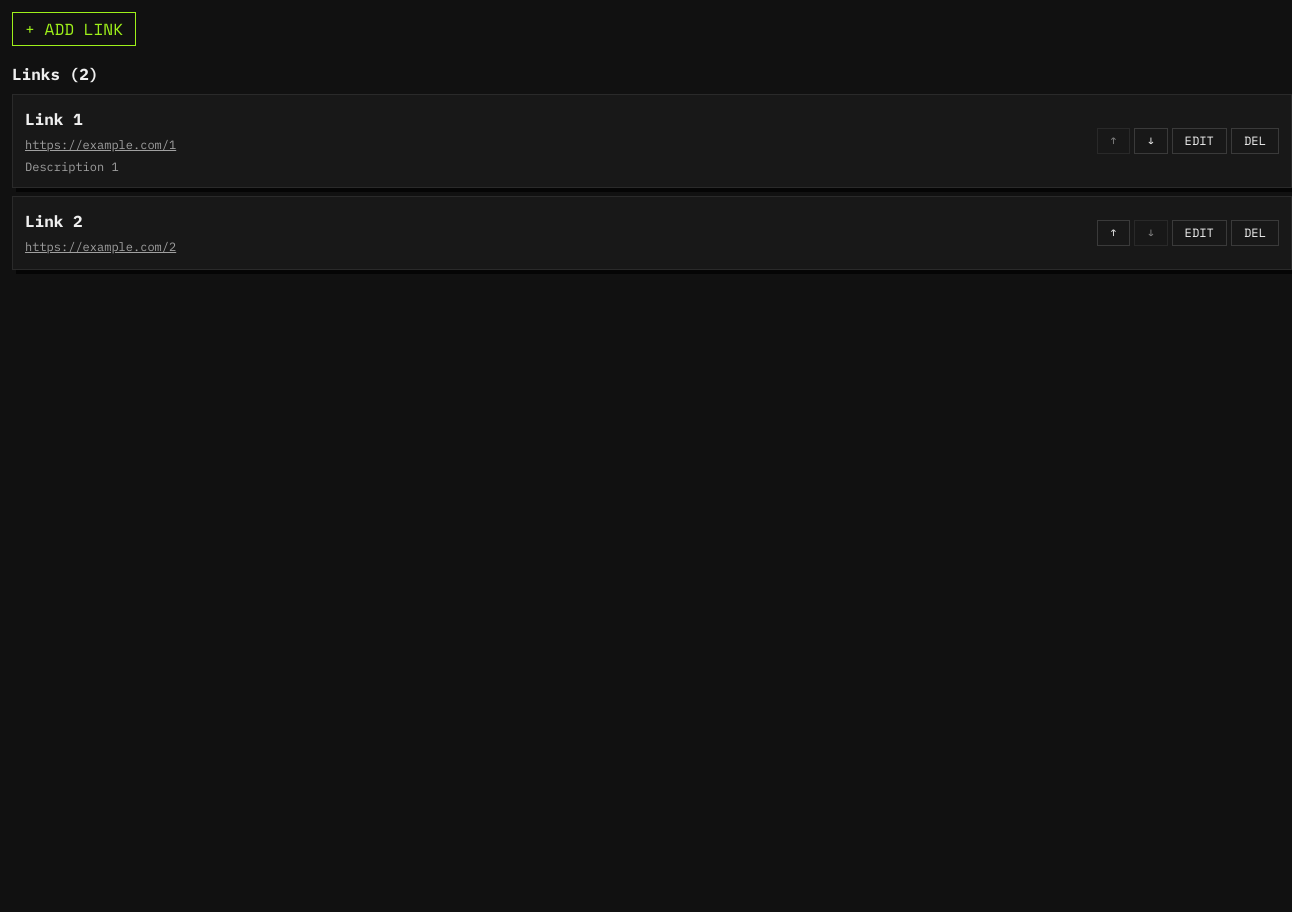
Test: LinkManager › updates link successfully
Expected: the text "Link 1" is shown, [25, 109, 83, 129]
Click the button "EDIT" in the row of "https://example.com/1".
click(1199, 141)  # box [1172, 128, 1227, 154]
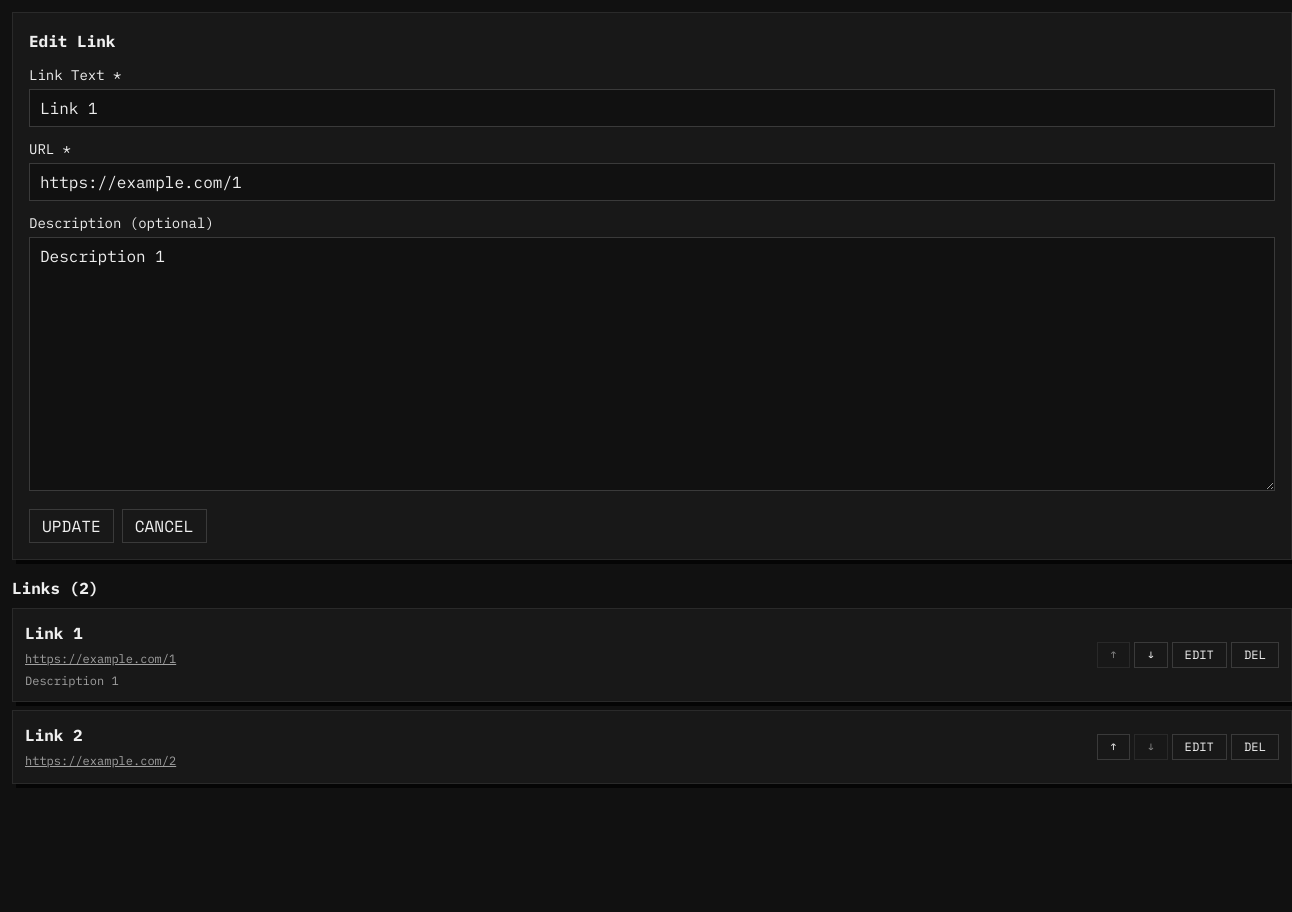
Replace the text in the field showing "Link 1" with "Updated Link" at (652, 108), box [29, 89, 1275, 127]
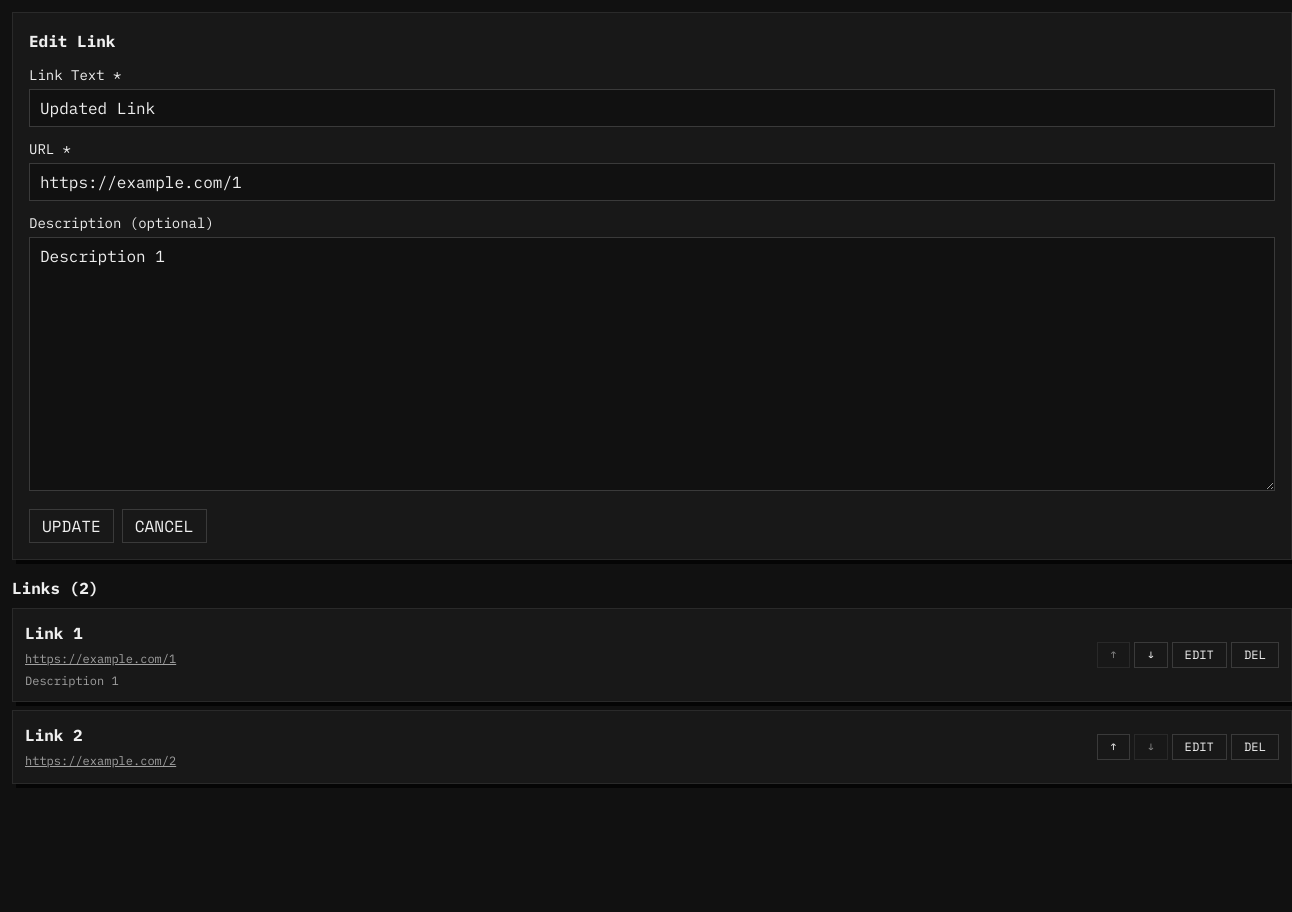
Click the button "UPDATE".
click(71, 526)  # box [29, 509, 114, 543]
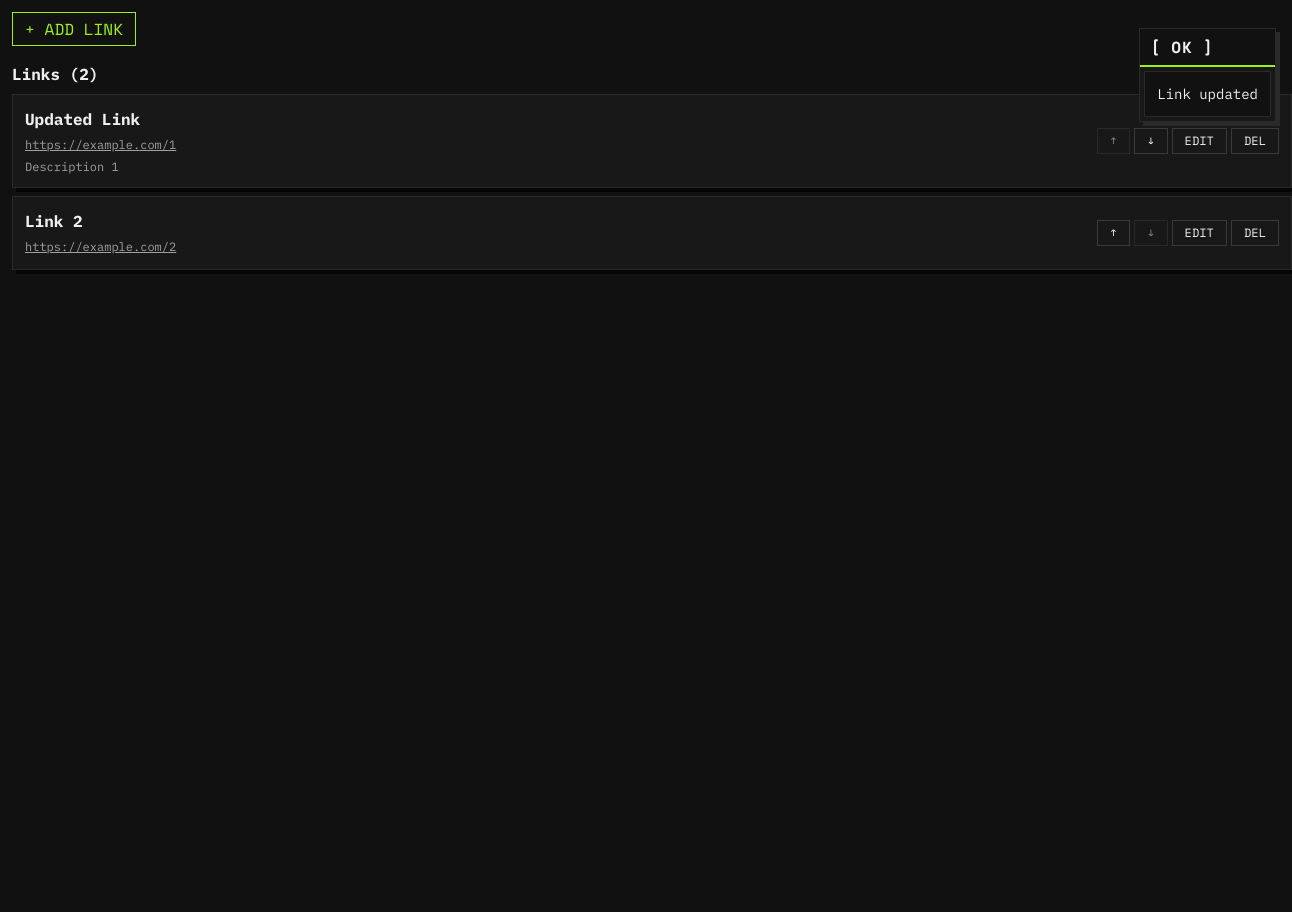
Result: the text "Updated Link" is shown at [25, 109, 140, 129]
